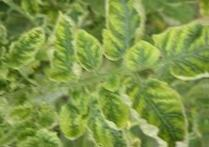Tomato leaf yellow virus: (124, 70, 199, 147), (170, 3, 209, 83), (97, 0, 148, 61), (51, 6, 88, 81), (9, 28, 45, 74), (100, 88, 135, 133), (60, 92, 92, 141), (76, 32, 105, 74), (15, 122, 58, 147), (24, 0, 43, 22)
